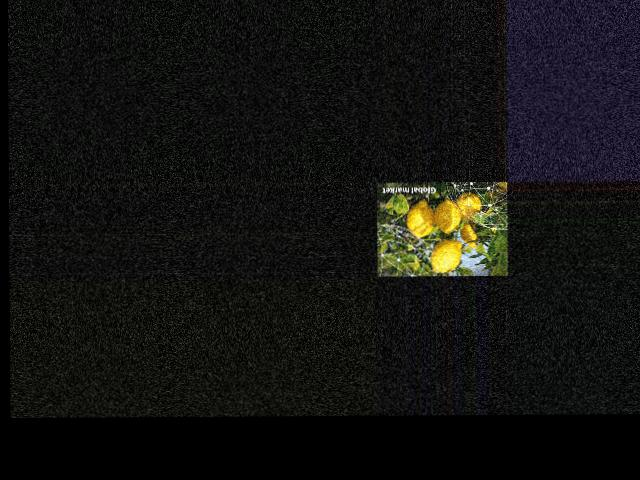lemon: (430, 237, 463, 275)
